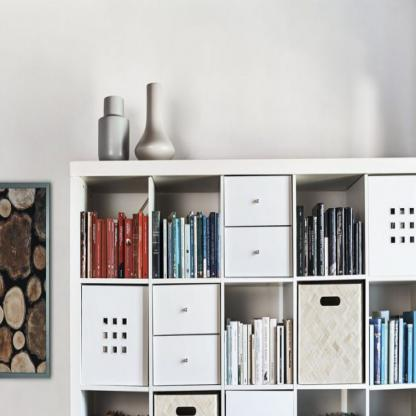lamp: (69, 156, 415, 415)
